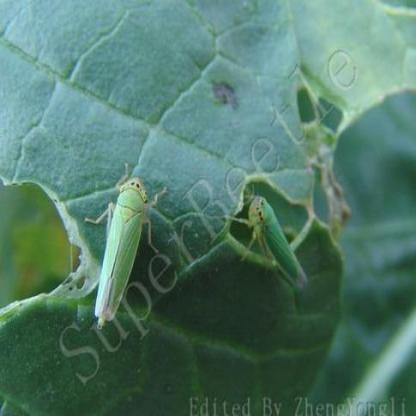Green-Leafhopper: (90, 166, 166, 330), (223, 186, 309, 286)
